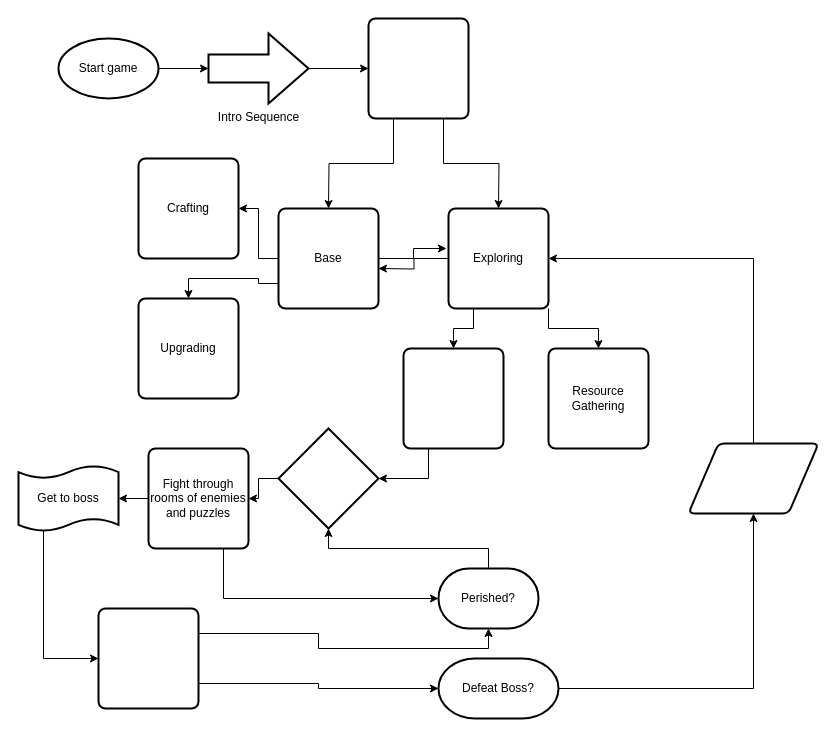
Some shapes in this 836 by 736 pixel diagram are drawn without their labels. Here are the shapes that lost their labels. From the top down, the centre of each, then its label:
At point (418, 68): "Gameplay".
At point (453, 398): "Discover Entrance".
At point (328, 478): "Enter Dungeon".
At point (753, 478): "Get loot/resources".
At point (148, 658): "Fight Boss".
